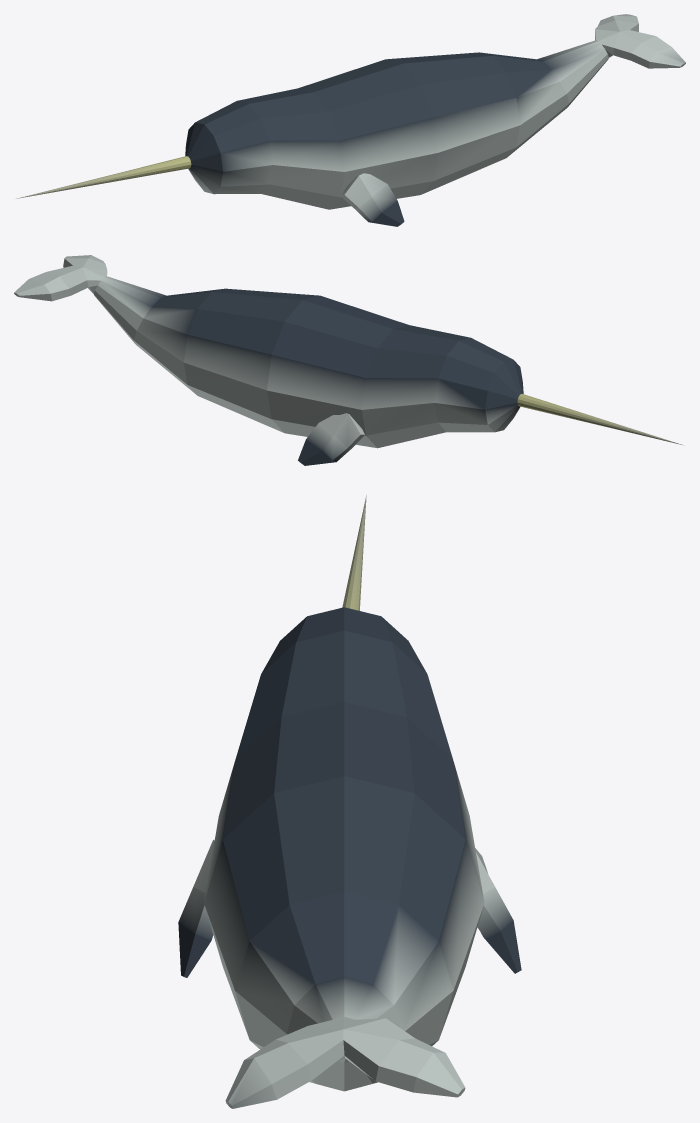
The model's file is Juanito.fbx.
3 renders of one model, top to bottom at view 1: azimuth 30°, elevation 25°; view 2: azimuth 150°, elevation 25°; view 3: azimuth 270°, elevation 25°, orthographic. The views are drawn at different scales.
Parts seen in each view (by area): view 1: Narval.001; view 2: Narval.001; view 3: Narval.001.
Boxes of the visible parts, left/top/right/bottom form: Narval.001: left=16, top=14, right=685, bottom=226; Narval.001: left=14, top=255, right=683, bottom=465; Narval.001: left=178, top=495, right=521, bottom=1108.
Size of the model in its own units: 678 by 129 by 157.
